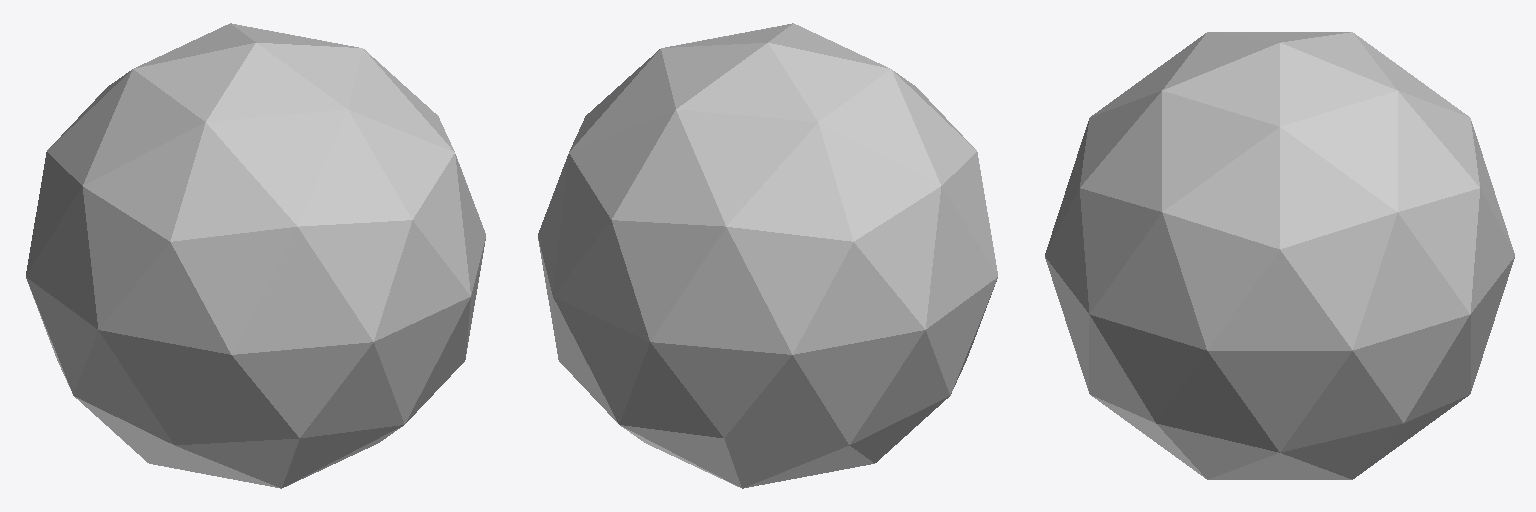
The model's file is sphereD_0p5.obj.
The picture shows the model from 3 angles: view 1: azimuth 30°, elevation 25°; view 2: azimuth 150°, elevation 25°; view 3: azimuth 270°, elevation 25°; orthographic projection.
Parts seen in each view (by area): view 1: GeoSphere001; view 2: GeoSphere001; view 3: GeoSphere001.
Boxes of the visible parts, box(x1,y1,x2,y2) form: GeoSphere001: box(26, 23, 485, 488); GeoSphere001: box(538, 23, 997, 488); GeoSphere001: box(1045, 32, 1514, 479).
Size of the model in its own units: 0.4756 by 0.5 by 0.5.